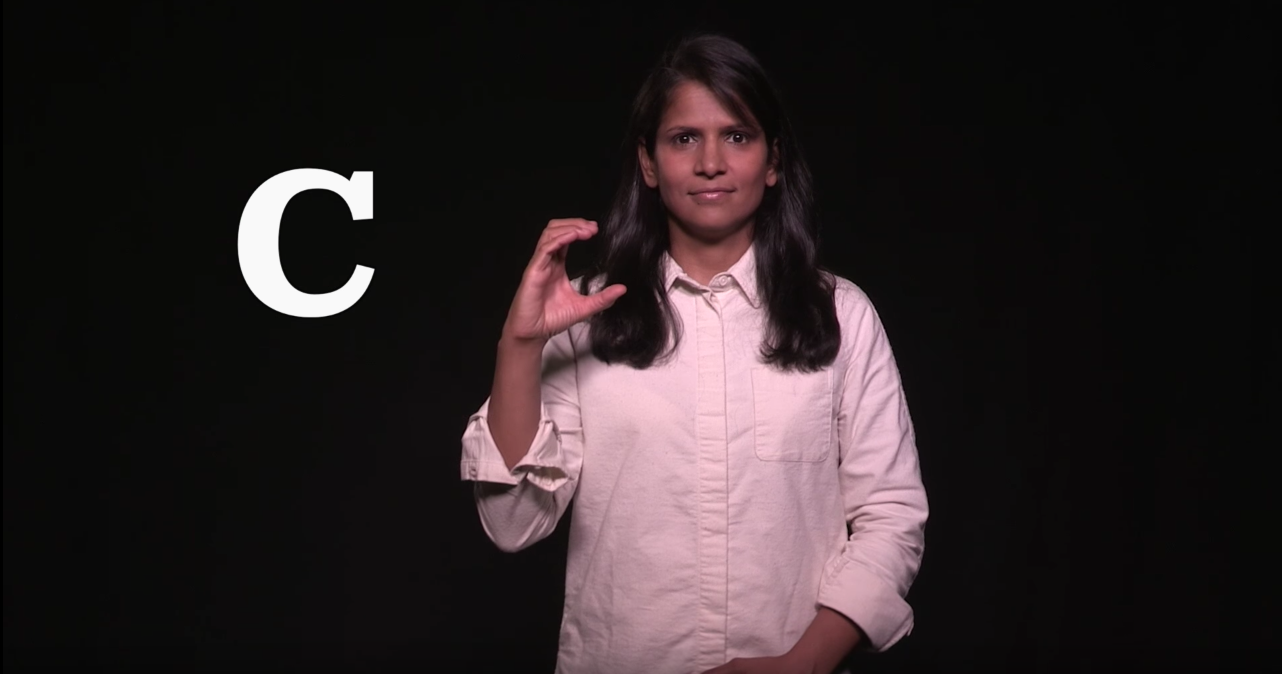c: (505, 208, 640, 351)
